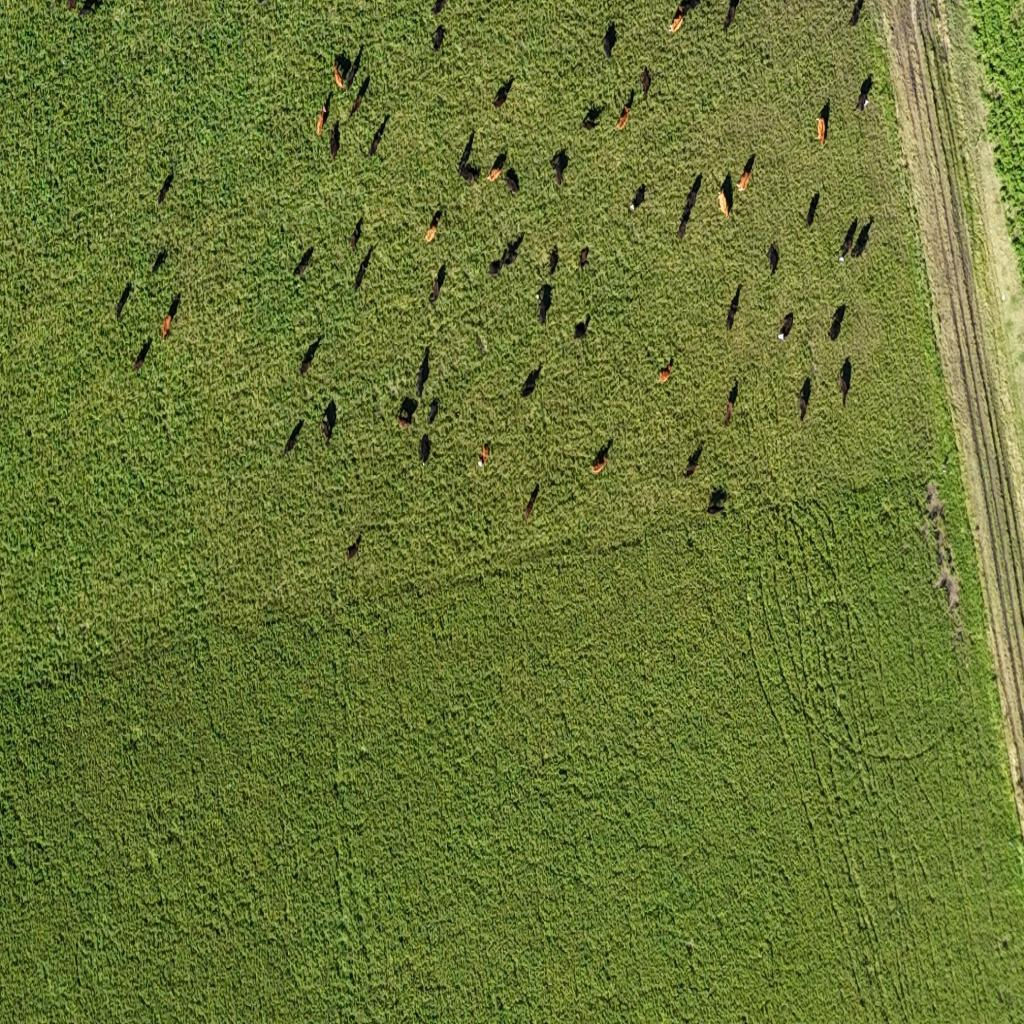cow: (676, 189, 697, 241), (348, 74, 370, 123), (852, 216, 874, 262), (458, 128, 477, 181), (669, 0, 700, 32), (299, 336, 323, 376), (924, 480, 946, 522), (162, 292, 181, 340), (486, 246, 511, 282), (938, 568, 958, 612), (354, 246, 373, 291), (414, 346, 430, 398), (284, 418, 304, 458), (345, 45, 362, 92), (132, 336, 153, 374), (115, 278, 133, 322), (520, 363, 542, 399), (722, 380, 738, 429), (855, 73, 874, 114), (321, 398, 337, 446), (293, 244, 314, 280), (503, 232, 524, 268), (492, 75, 514, 109), (591, 440, 612, 475), (727, 282, 742, 331), (396, 397, 418, 430), (369, 118, 387, 158), (550, 148, 568, 188), (840, 218, 857, 260), (582, 102, 606, 131), (431, 263, 447, 306), (816, 98, 830, 147), (829, 302, 846, 342), (616, 90, 633, 130), (739, 152, 755, 194), (705, 486, 728, 514), (537, 284, 552, 326), (425, 207, 441, 246), (72, 1, 106, 19), (798, 376, 811, 423), (685, 444, 702, 479), (778, 311, 795, 346), (628, 183, 646, 216), (158, 168, 174, 205), (487, 151, 506, 182), (602, 19, 617, 58), (839, 360, 851, 408), (806, 189, 820, 228), (332, 56, 347, 92), (349, 215, 363, 253), (316, 96, 328, 138), (639, 66, 652, 104), (523, 487, 537, 522), (658, 354, 674, 384), (329, 122, 341, 162), (574, 313, 590, 342), (687, 170, 702, 200), (346, 532, 362, 560), (152, 246, 168, 274), (503, 166, 519, 194), (767, 242, 779, 279), (718, 185, 731, 219), (724, 0, 738, 30), (420, 432, 432, 466), (850, 0, 864, 28), (546, 246, 558, 277), (432, 24, 445, 52), (428, 396, 439, 426), (477, 444, 489, 470), (476, 332, 488, 356), (578, 244, 589, 270), (432, 0, 447, 16), (162, 317, 172, 340), (66, 0, 79, 14), (768, 502, 782, 515)
